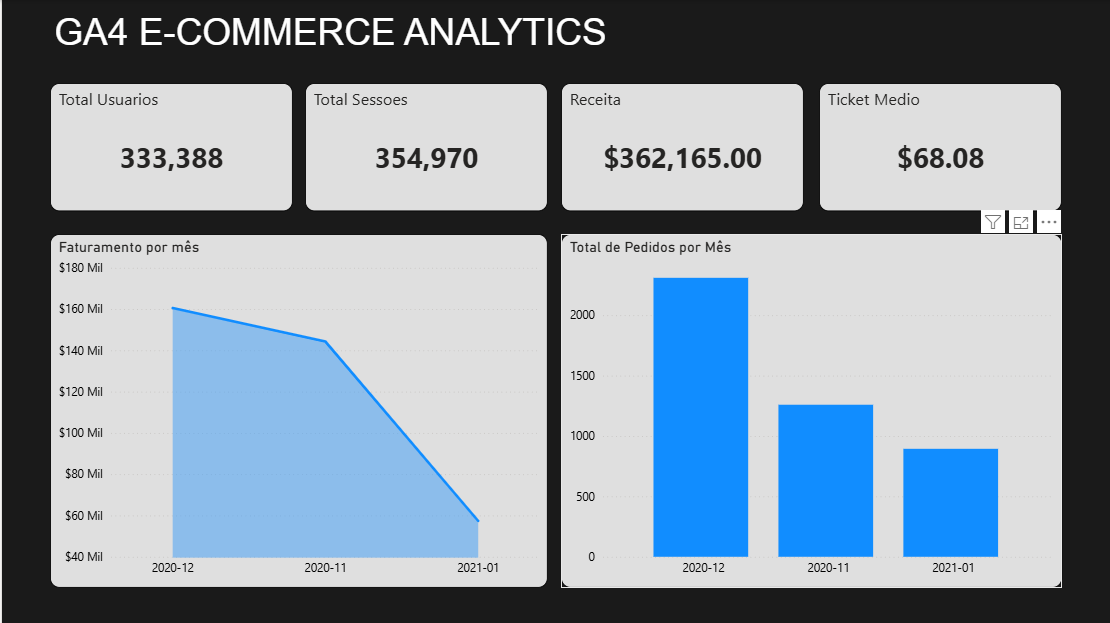

The page's visual inventory and layout, read from the dashboard file:
{"tool":"powerbi","page":{"name":"Visao Executiva","canvas":[1280,720],"ordinal":0},"visuals":[{"type":"card","title":"Total Usuarios","fields":{"Values":["_Medidas.Total Usuarios"]},"box":[55.4,95.7,280.2,147.6],"z":0},{"type":"card","title":"Total Sessoes","fields":{"Values":["Sum(vw_comportamento_dispositivo.sessoes)"]},"box":[349.4,95.7,280.2,147.6],"z":1000},{"type":"card","title":"Receita","fields":{"Values":["_Medidas.Receita Total"]},"box":[644.6,95.7,280.2,147.6],"z":2000},{"type":"card","title":"Ticket Medio","fields":{"Values":["_Medidas.Ticket Medio"]},"box":[942.1,95.7,280.2,147.6],"z":3000},{"type":"stackedAreaChart","title":"Faturamento por mês","fields":{"Category":["vw_receita_mensal.mes"],"Y":["_Medidas.Receita Total"]},"box":[55.4,269.8,574.3,408.2],"z":4000},{"type":"columnChart","title":"Total de Pedidos por Mês","fields":{"Y":["Sum(vw_receita_mensal.pedidos)"],"Category":["vw_receita_mensal.mes"]},"box":[644.6,269.8,577.7,408.2],"z":5000},{"type":"textbox","box":[55.4,8.1,807.2,63.4],"z":6000}]}

Visuals, with their boxes in screenshot pixels (x1, y1, x2, y2), scaled from the page's 1280x720 canvas onto the 1110x623 screenshot:
"Total Usuarios" card: {"left": 48, "top": 83, "right": 291, "bottom": 211}
"Total Sessoes" card: {"left": 303, "top": 83, "right": 546, "bottom": 211}
"Receita" card: {"left": 559, "top": 83, "right": 802, "bottom": 211}
"Ticket Medio" card: {"left": 817, "top": 83, "right": 1060, "bottom": 211}
"Faturamento por mês" stackedAreaChart: {"left": 48, "top": 233, "right": 546, "bottom": 587}
"Total de Pedidos por Mês" columnChart: {"left": 559, "top": 233, "right": 1060, "bottom": 587}
textbox: {"left": 48, "top": 7, "right": 748, "bottom": 62}
